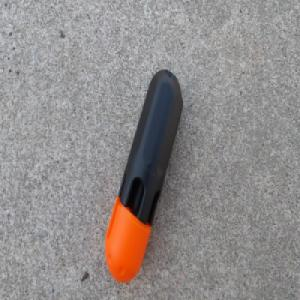PlasticPart: (103, 68, 183, 284)
